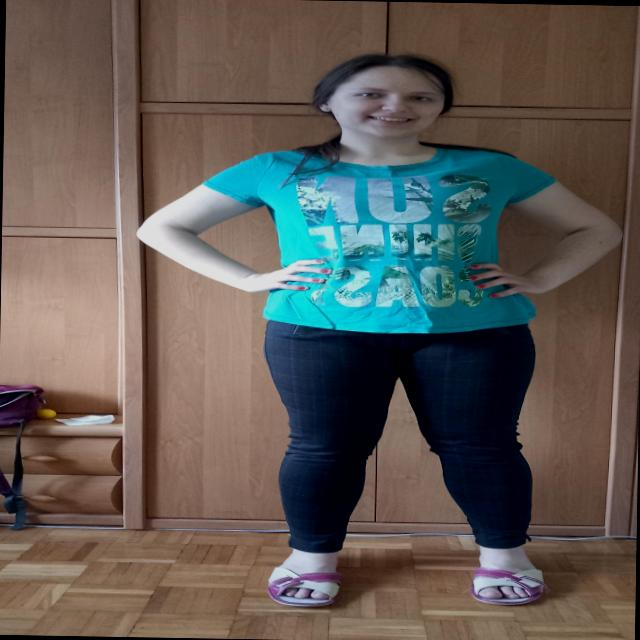Tshirt: (196, 144, 556, 338)
pants: (258, 318, 538, 556)
